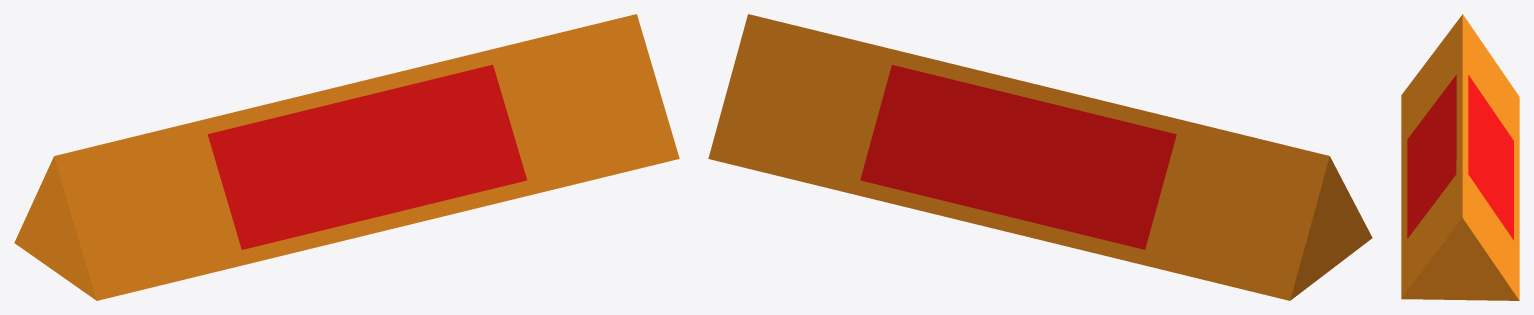
The model's file is Triangular Chocolate.fbx.
3 views of the same model, side by side, from view 1: azimuth 30°, elevation 25°; view 2: azimuth 150°, elevation 25°; view 3: azimuth 270°, elevation 25° (orthographic). The views are drawn at different scales.
Visible parts, largest first — view 1: Node 0; view 2: Node 0; view 3: Node 0.
Boxes of the visible parts, box(x1,y1,x2,y2) form: Node 0: box(14, 14, 679, 300); Node 0: box(708, 14, 1372, 300); Node 0: box(1401, 14, 1519, 300).
Bounding box in the file's own units: 0.0491 × 0.038 × 0.1997.
